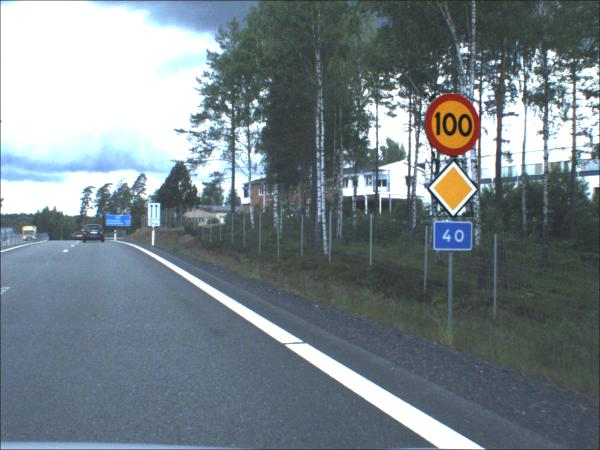100_SIGN: (425, 95, 483, 159), (429, 160, 479, 219)
